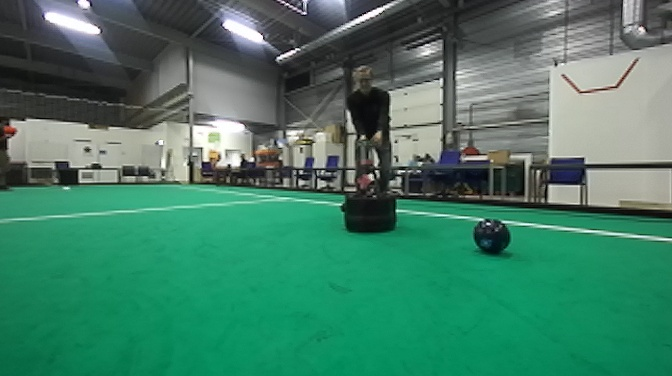ball: (473, 215, 515, 256)
human: (341, 59, 402, 210)
robot: (340, 136, 397, 236)
